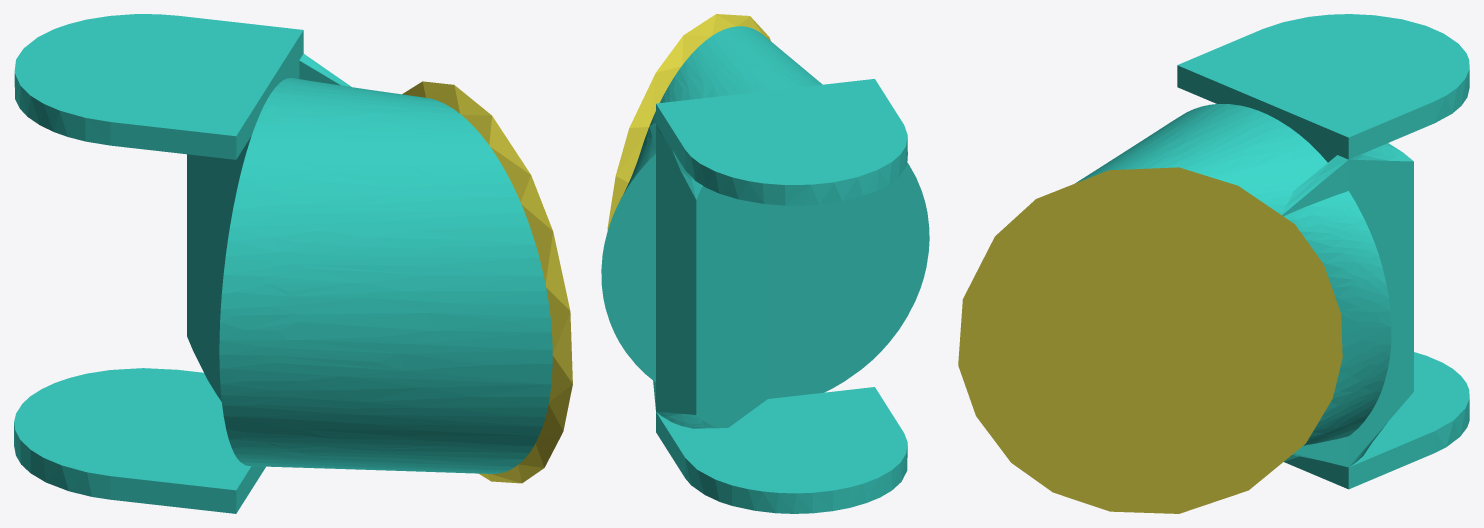
Rendered from hip_bracket_dexter_collision.obj.
The picture shows the model from 3 angles, left to right: view 1: azimuth 30°, elevation 25°; view 2: azimuth 150°, elevation 25°; view 3: azimuth 270°, elevation 25°; orthographic projection. The views are drawn at different scales.
Parts seen in each view (by area): view 1: Body4, Body2, Body3; view 2: Body2, Body4, Body3; view 3: Body3, Body2, Body4.
Part boxes in pixels (x1,y1,x2,y2): Body4: [219, 78, 552, 473]; Body2: [14, 14, 351, 513]; Body3: [402, 81, 572, 483]; Body2: [649, 79, 907, 513]; Body4: [601, 26, 929, 398]; Body3: [607, 14, 770, 230]; Body3: [958, 167, 1342, 513]; Body2: [1177, 14, 1469, 489]; Body4: [1075, 104, 1391, 461].
Size of the model in its own units: 14.71 by 16 by 21.09.
